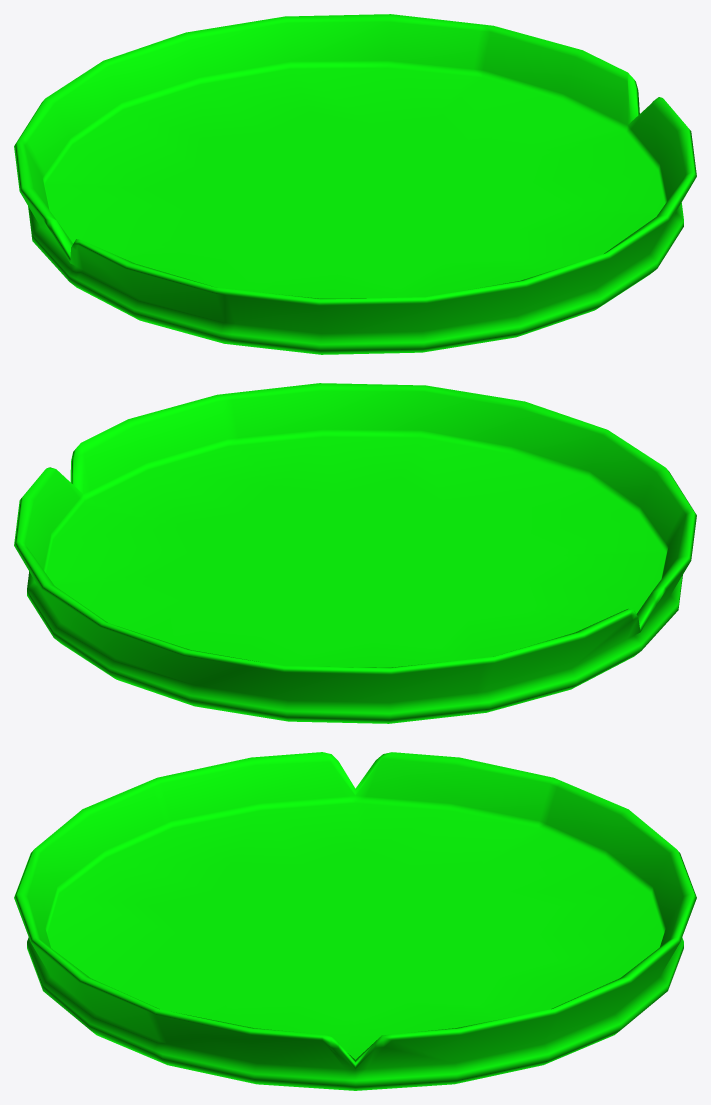
The model's file is LilyPad_3.fbx.
3 renders of one model, top to bottom at view 1: azimuth 30°, elevation 25°; view 2: azimuth 150°, elevation 25°; view 3: azimuth 270°, elevation 25°, orthographic.
Parts seen in each view (by area): view 1: LilyPad_3; view 2: LilyPad_3; view 3: LilyPad_3.
Part boxes in pixels (x1=…): LilyPad_3: x1=14, y1=14, x2=696, y2=354; LilyPad_3: x1=14, y1=383, x2=696, y2=723; LilyPad_3: x1=14, y1=752, x2=696, y2=1090.
Size of the model in its own units: 371 by 37.69 by 374.
